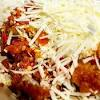ayam_geprek: (6, 1, 98, 100)
